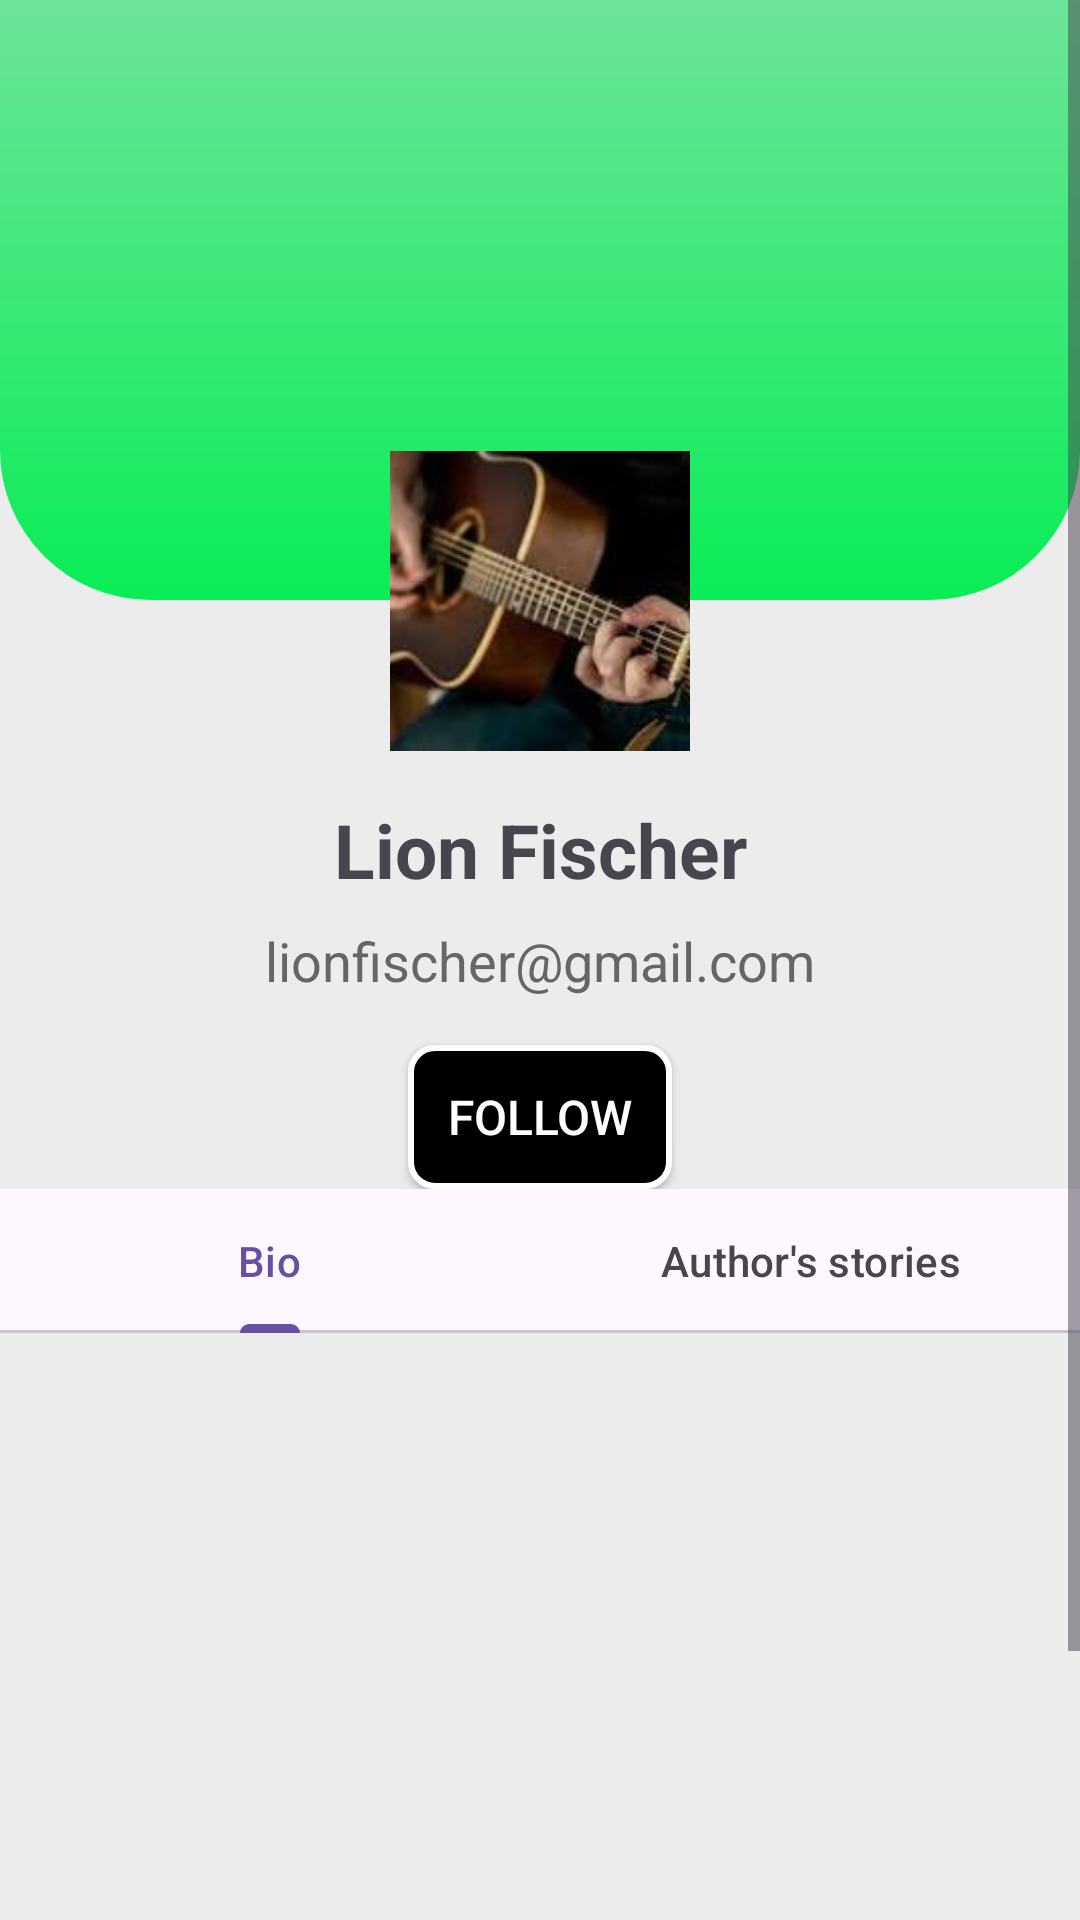

Screen size 1080 × 1920. Icon name, then its center in pixels as [x,y]:
anhavartar: [540,601]
